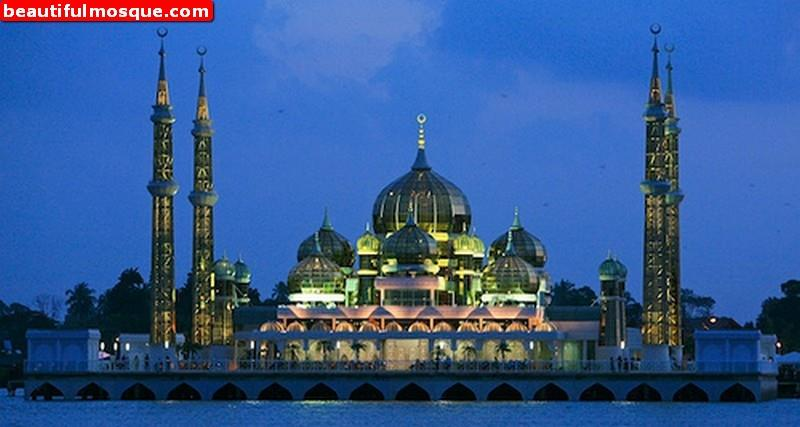Mosque: (66, 25, 687, 377)
